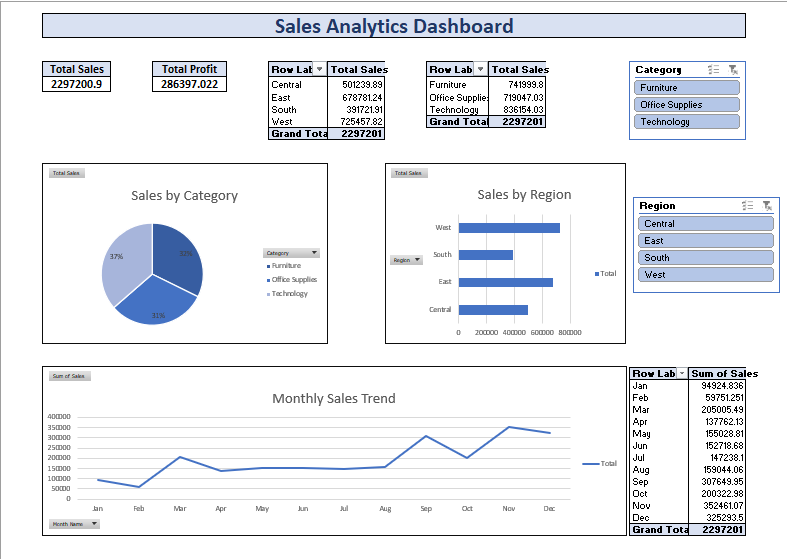

Layout of this report page (visuals, bound fields, positions):
{"tool":"powerbi","page":{"name":"Sales Dashboard","canvas":[1200,702],"ordinal":0},"visuals":[{"type":"textbox","box":[10.1,7.8,1178.2,61.6],"z":0},{"type":"card","fields":{"Values":["Superstore_data.Total_Sales"]},"box":[44.2,82.9,231.1,129.4],"z":1000},{"type":"card","fields":{"Values":["Superstore_data.Total Profit"]},"box":[335.1,82.9,231.1,129.4],"z":2000},{"type":"card","fields":{"Values":["Superstore_data.Average Sales"]},"box":[645.8,82.9,231.1,129.4],"z":3000},{"type":"card","fields":{"Values":["Superstore_data.Average Profit"]},"box":[928.9,82.9,231.1,129.4],"z":4000},{"type":"barChart","title":"Sales by Region","fields":{"Y":["Sum(Superstore_data.Sales)"],"Category":["Superstore_data.Region"]},"box":[44.2,241.1,522,217.9],"z":5000},{"type":"pieChart","title":"Sales by Category","fields":{"Y":["Sum(Superstore_data.Sales)"],"Category":["Superstore_data.Category"]},"box":[645.8,241.1,514.2,217.9],"z":6000},{"type":"lineChart","title":"Monthly Sales Trend","fields":{"Category":["Superstore_data.Order Date.Variation.Date Hierarchy.Month"],"Y":["Sum(Superstore_data.Sales)"]},"box":[140.4,485.5,884.7,207.9],"z":7000},{"type":"slicer","fields":{"Values":["Superstore_data.Region"]},"box":[17.7,513.1,108.4,151.5],"z":8000},{"type":"slicer","fields":{"Values":["Superstore_data.Category"]},"box":[1037.3,528.6,150.4,121.6],"z":9000}]}

Visuals, with their boxes on the page's 1200x702 design canvas (x1, y1, x2, y2). These are canvas units, not pixel positions in the 787x559 screenshot, which may show the page scaled, cropped or inside an application window:
textbox: 10, 8, 1188, 69
card - Superstore_data.Total_Sales: 44, 83, 275, 212
card - Superstore_data.Total Profit: 335, 83, 566, 212
card - Superstore_data.Average Sales: 646, 83, 877, 212
card - Superstore_data.Average Profit: 929, 83, 1160, 212
"Sales by Region" barChart: 44, 241, 566, 459
"Sales by Category" pieChart: 646, 241, 1160, 459
"Monthly Sales Trend" lineChart: 140, 486, 1025, 693
slicer - Superstore_data.Region: 18, 513, 126, 665
slicer - Superstore_data.Category: 1037, 529, 1188, 650
